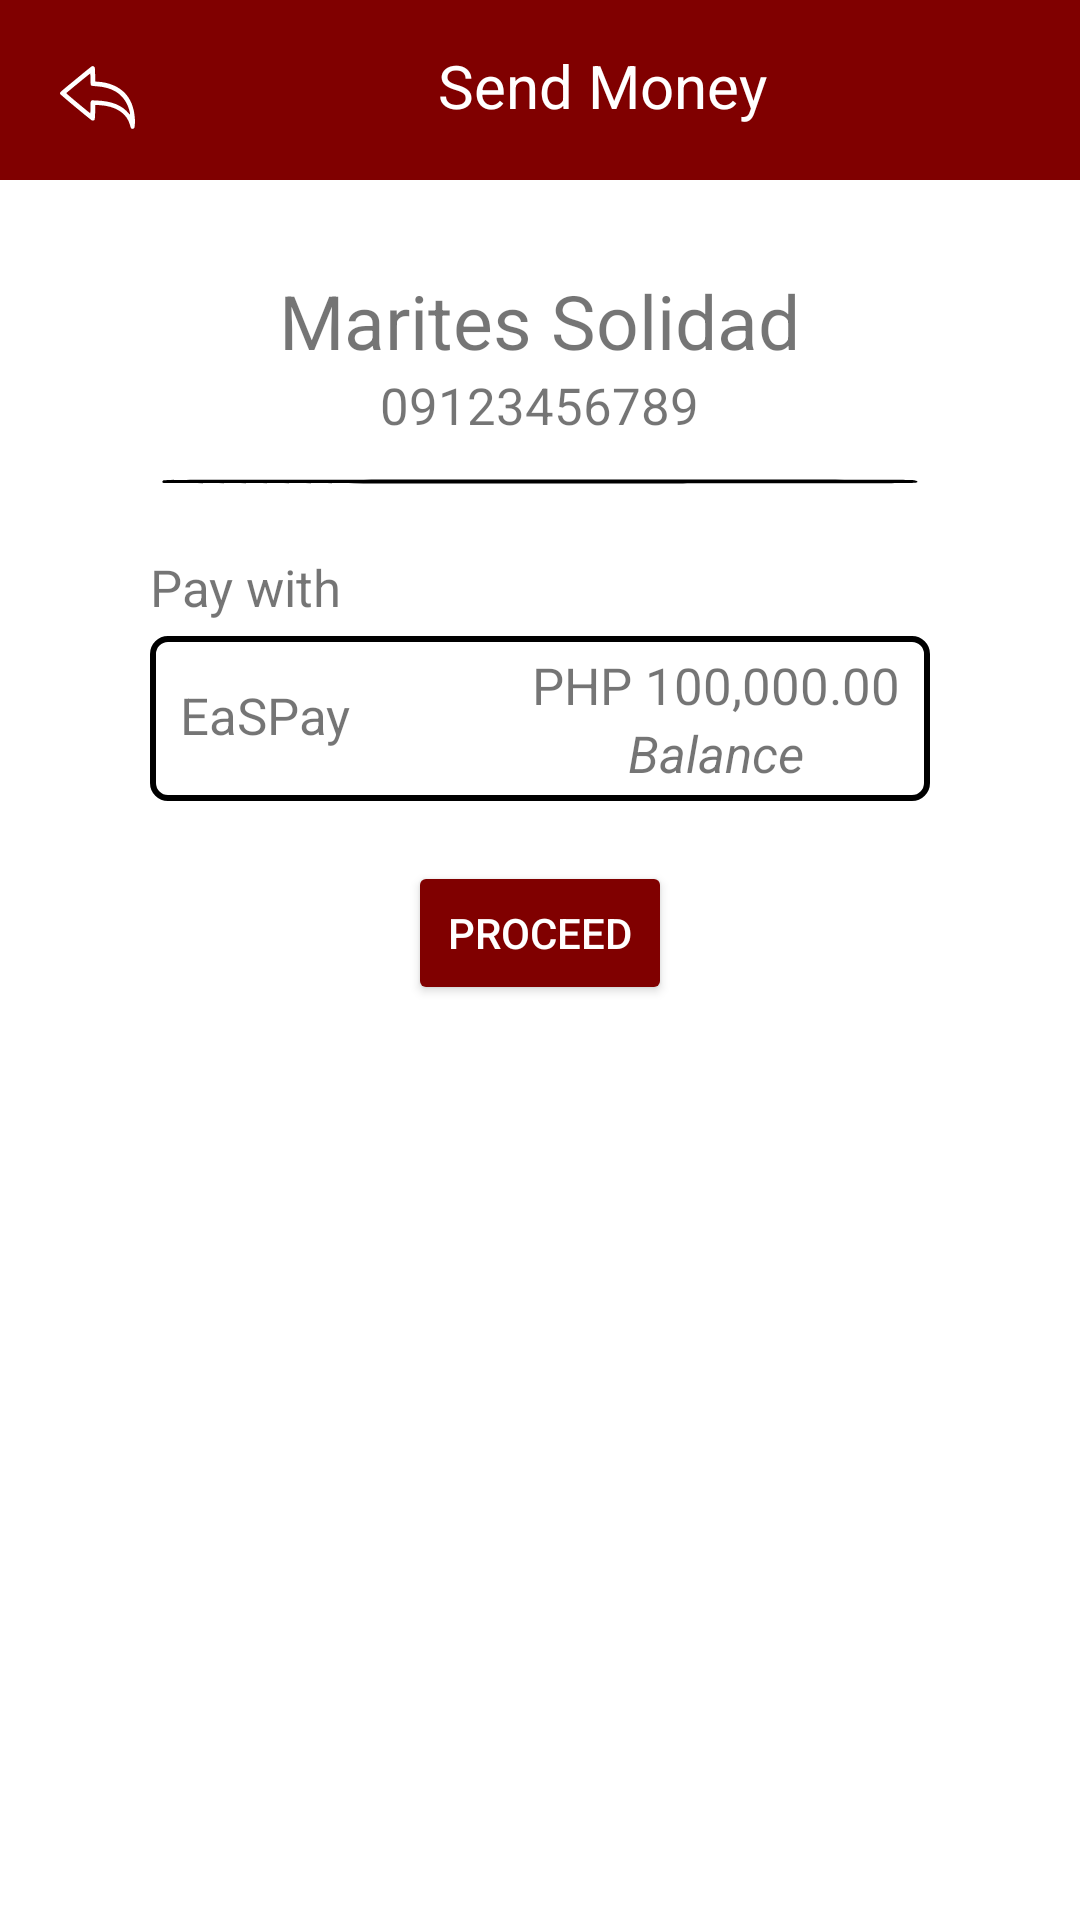

Named icons in this screenshot (1080*1920) and their bounding boxes, [x1,y1,x2,y2]:
back: [60,66,135,129]
